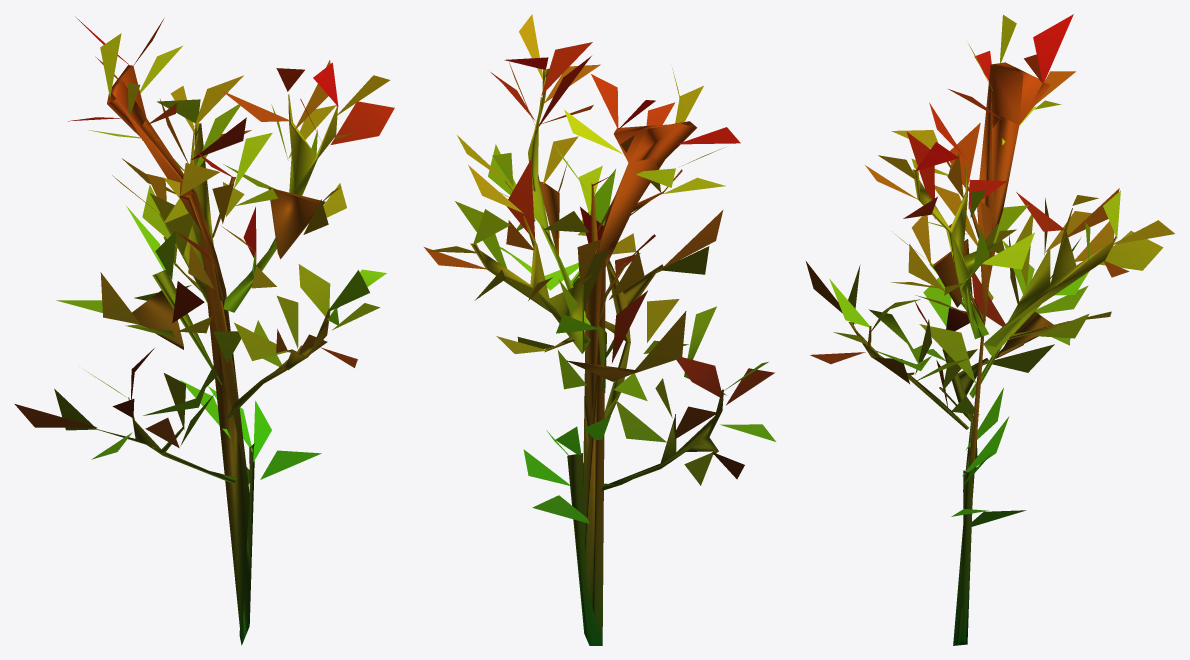
The model's file is SM_OW_Shrub_d_LOD2.fbx.
The picture shows the model from 3 angles, left to right: view 1: azimuth 30°, elevation 25°; view 2: azimuth 150°, elevation 25°; view 3: azimuth 270°, elevation 25°; orthographic projection. The views are drawn at different scales.
Parts seen in each view (by area): view 1: SM_OW_Shrub_d_LOD2; view 2: SM_OW_Shrub_d_LOD2; view 3: SM_OW_Shrub_d_LOD2.
Part boxes in pixels (x1,y1,x2,y2): SM_OW_Shrub_d_LOD2: [14, 16, 394, 645]; SM_OW_Shrub_d_LOD2: [424, 14, 775, 645]; SM_OW_Shrub_d_LOD2: [806, 14, 1174, 645].
Size of the model in its own units: 0.1525 by 0.2835 by 0.1618.
